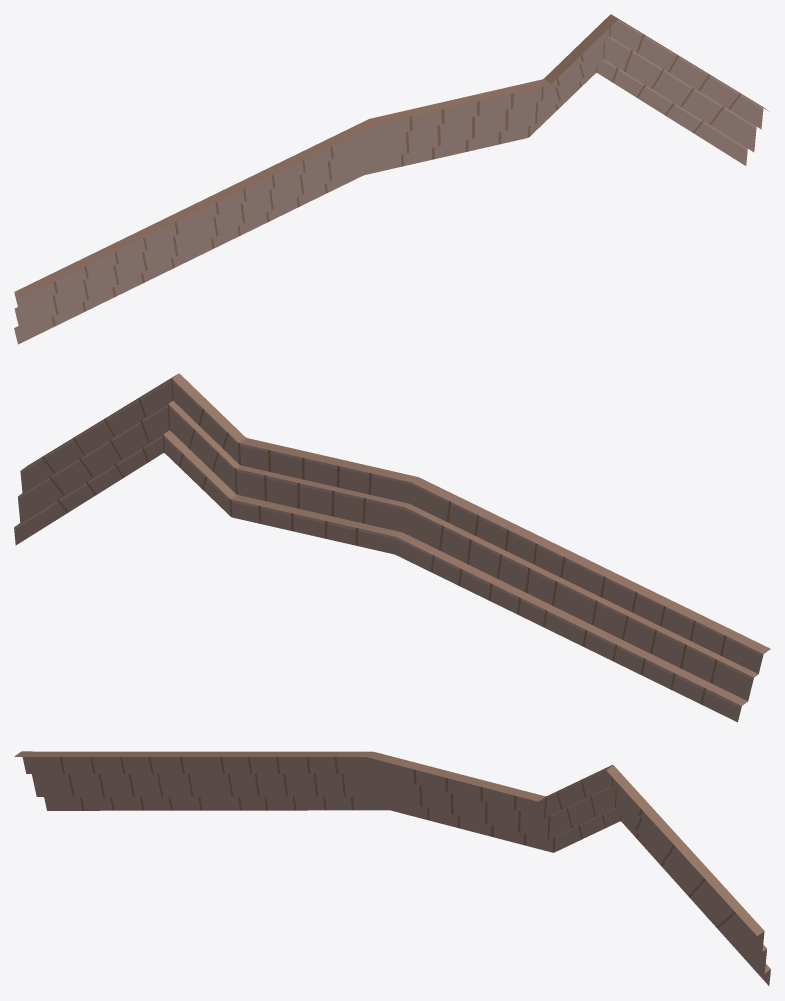
Rendered from TownStairs.fbx.
3 renders of one model, top to bottom at view 1: azimuth 30°, elevation 25°; view 2: azimuth 150°, elevation 25°; view 3: azimuth 330°, elevation 25°, orthographic.
Visible parts, largest first — view 1: TownStairs; view 2: TownStairs; view 3: TownStairs.
Boxes of the visible parts, bbox=[...] form: TownStairs: bbox=[14, 14, 769, 344]; TownStairs: bbox=[14, 373, 770, 722]; TownStairs: bbox=[14, 751, 770, 985].
Bounding box in the file's own units: 1642 × 411 × 70.07.
